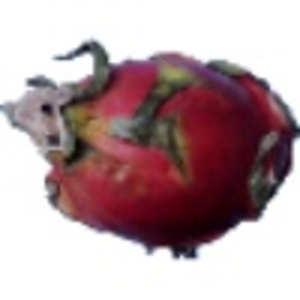pitaia: (1, 37, 300, 261)
